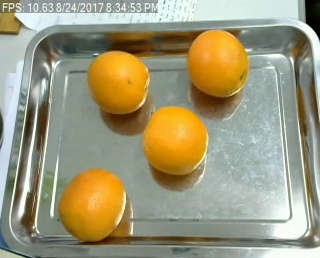Orange: (58, 167, 126, 241), (142, 107, 208, 175), (187, 28, 249, 97), (87, 50, 149, 113)
